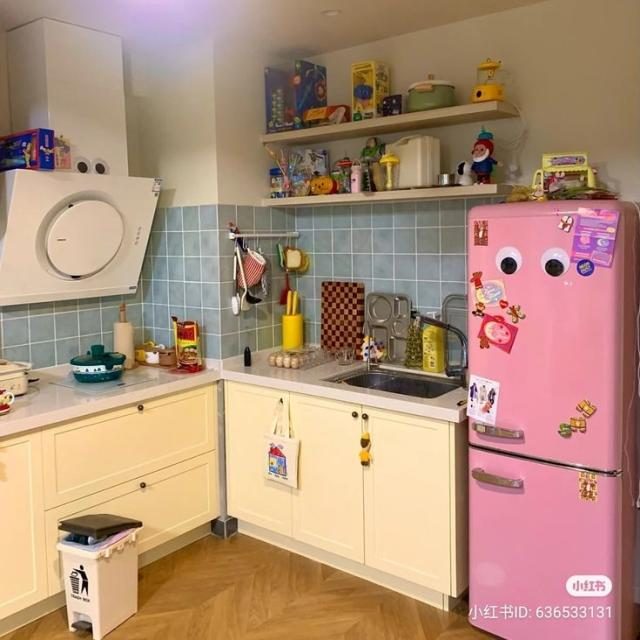obstacle: (464, 198, 639, 639)
